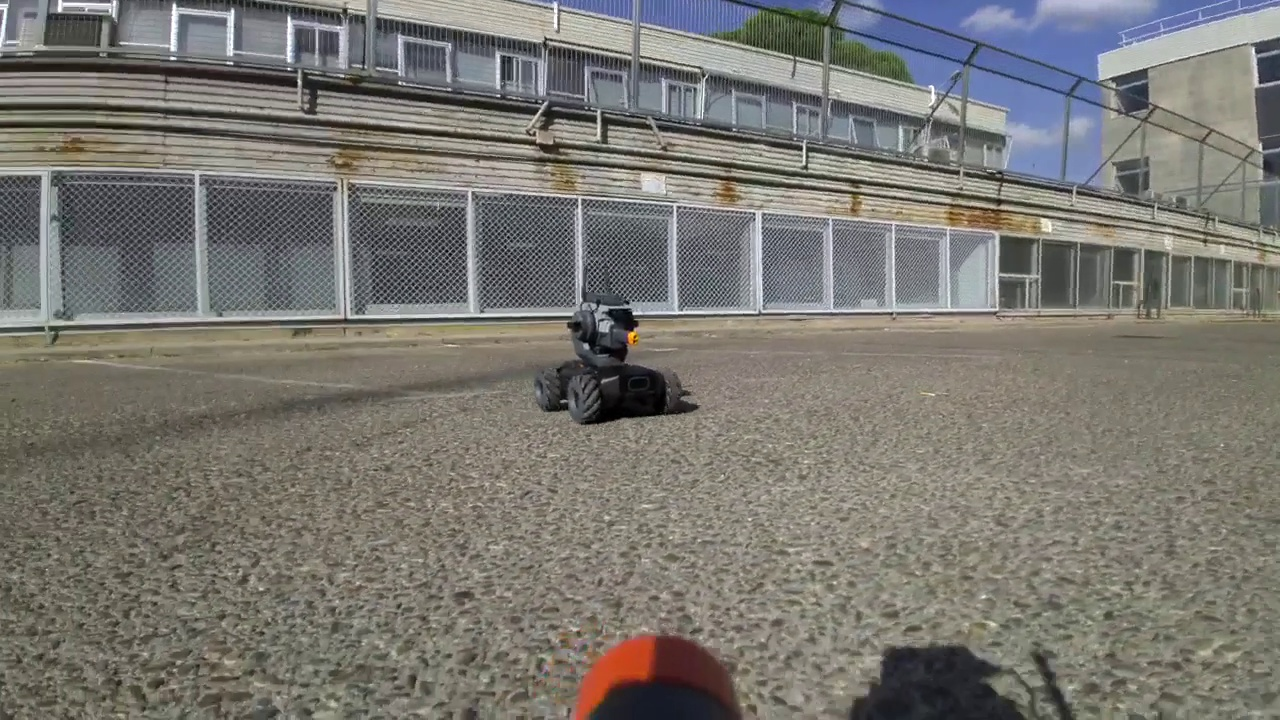robot: (532, 256, 681, 418)
